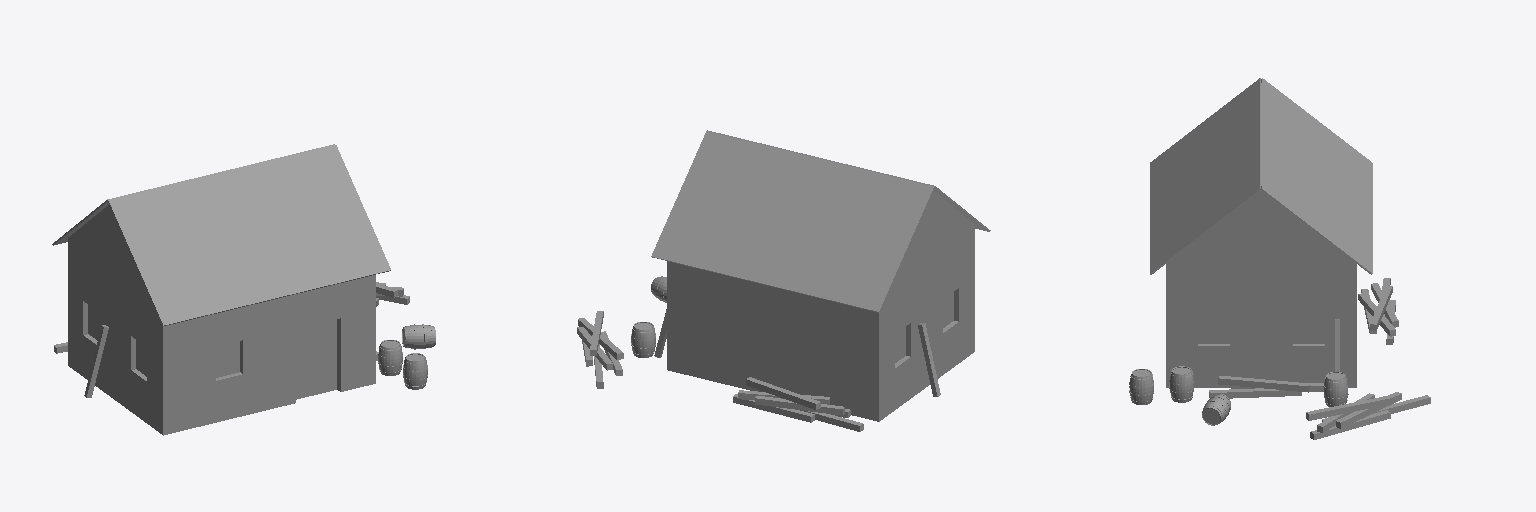
The model's file is house.obj.
3 renders of one model, left to right at view 1: azimuth 30°, elevation 25°; view 2: azimuth 150°, elevation 25°; view 3: azimuth 270°, elevation 25°, orthographic.
Visible parts, largest first — view 1: Cube.001, Cube.002, Plane, LP.002, LP, LP.003, Plane.003_Plane.001, Cube.002_Cube.001, Cube.013_Cube.002; view 2: Cube.001, Cube.002_Cube.001, LP.001, Cube.012_Cube.002, Cube.011_Cube.002, Cube.013_Cube.002, Cube.009_Cube.002, Cube.002; view 3: Cube.001, Cube.002_Cube.001, Cube.002, Plane.001, Plane.002_Plane.001, Cube.005_Cube.002, Cube.012_Cube.000, LP, LP.002, LP.001, LP.003, Cube.004_Cube.002 (+1 smaller).
Boxes of the visible parts, box(x1,y1,x2,y2) form: Cube.001: box(68, 205, 375, 435); Cube.002: box(108, 145, 390, 325); Plane: box(296, 319, 336, 399); LP.002: box(403, 353, 427, 389); LP: box(378, 340, 402, 375); LP.003: box(402, 324, 435, 349); Plane.003_Plane.001: box(216, 341, 239, 377); Cube.002_Cube.001: box(52, 144, 334, 245); Cube.013_Cube.002: box(84, 325, 108, 397); Cube.001: box(667, 191, 974, 421); Cube.002_Cube.001: box(651, 131, 934, 312); LP.001: box(631, 322, 655, 357); Cube.012_Cube.002: box(746, 377, 820, 409); Cube.011_Cube.002: box(755, 396, 844, 415); Cube.013_Cube.002: box(918, 323, 940, 396); Cube.009_Cube.002: box(733, 394, 814, 422); Cube.002: box(707, 130, 990, 231); Cube.001: box(1166, 83, 1356, 387); Cube.002_Cube.001: box(1261, 78, 1372, 274); Cube.002: box(1150, 78, 1260, 274); Plane.001: box(1198, 312, 1229, 343); Plane.002_Plane.001: box(1293, 312, 1324, 343); Cube.005_Cube.002: box(1218, 376, 1309, 392); Cube.012_Cube.000: box(1306, 395, 1391, 420); LP: box(1169, 366, 1194, 402); LP.002: box(1129, 369, 1153, 404); LP.001: box(1323, 372, 1348, 406); LP.003: box(1202, 394, 1230, 425); Cube.004_Cube.002: box(1209, 388, 1301, 398).
Bounding box in the file's own units: 6.47 × 3.66 × 4.94.